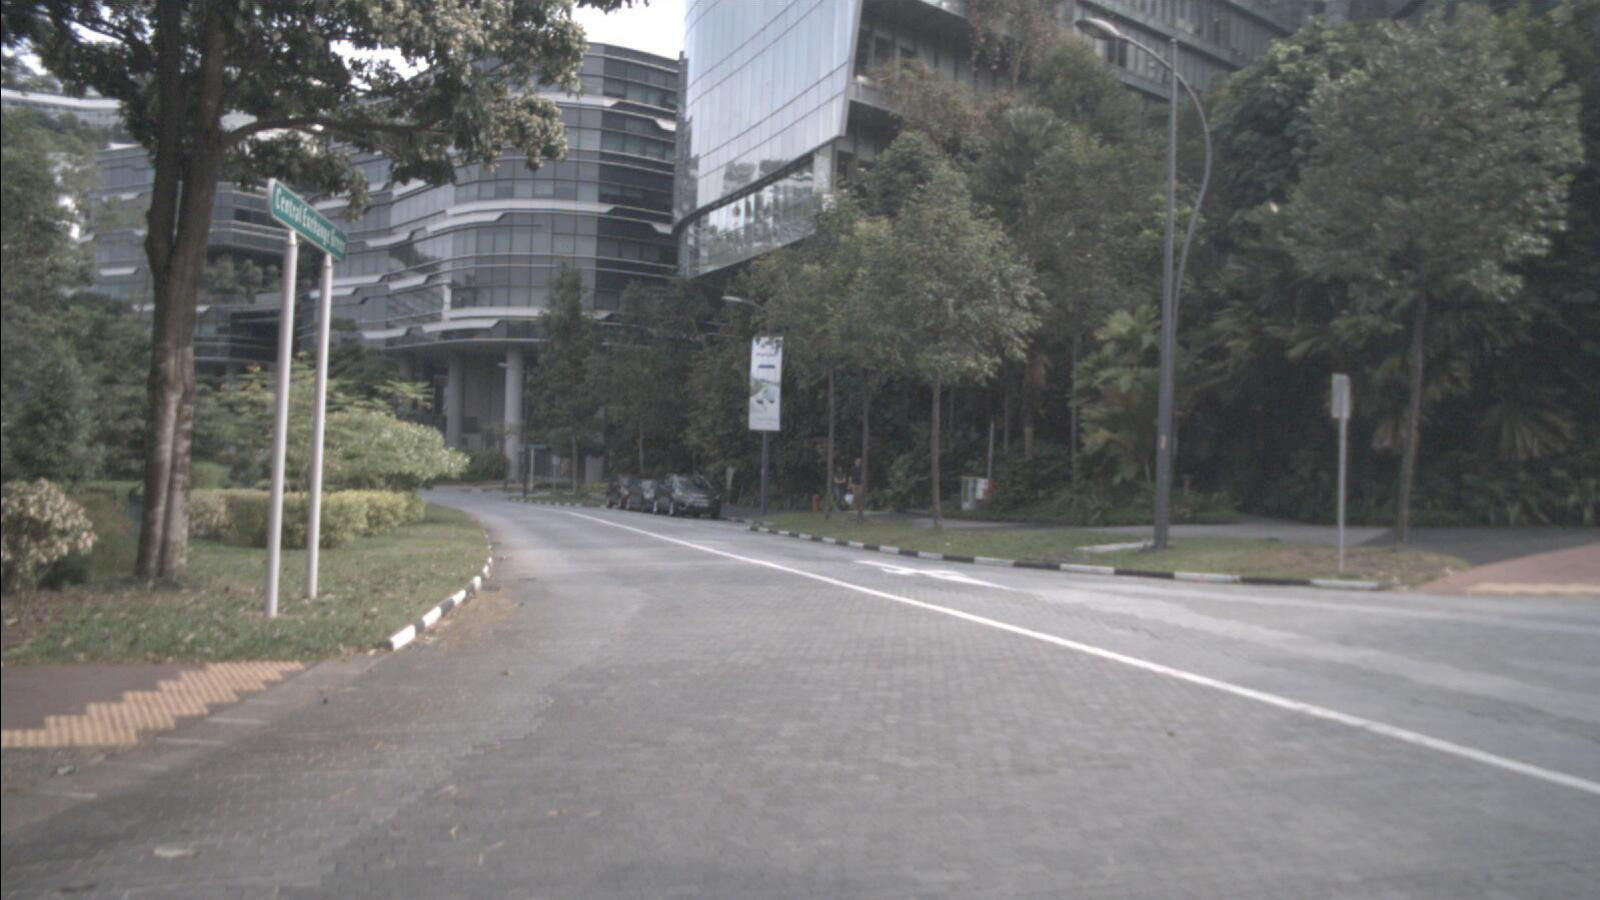human.pedestrian.adult-pedestrian.moving: (843, 456, 866, 516), (830, 464, 847, 511)
